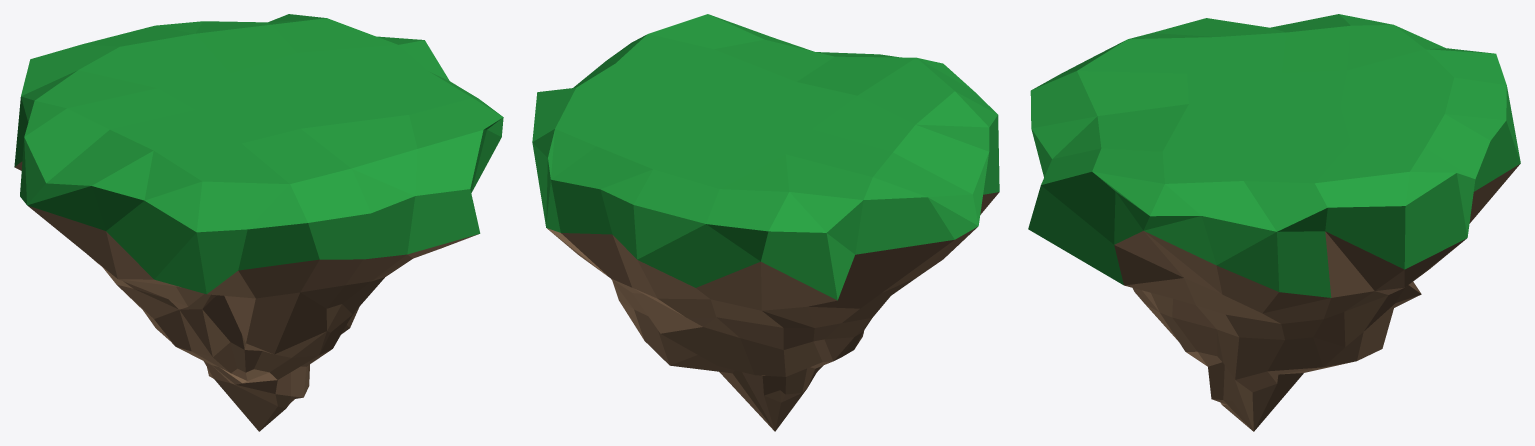
The model's file is rock_platform.glb.
3 renders of one model, left to right at view 1: azimuth 30°, elevation 25°; view 2: azimuth 150°, elevation 25°; view 3: azimuth 270°, elevation 25°, orthographic. The views are drawn at different scales.
Parts seen in each view (by area): view 1: Cone; view 2: Cone; view 3: Cone.
Boxes of the visible parts, x1,y1,x2,y2 form: Cone: (14,14,503,431); Cone: (532,14,999,431); Cone: (1028,14,1520,431).
Bounding box in the file's own units: 2.01 × 1.49 × 1.99.
